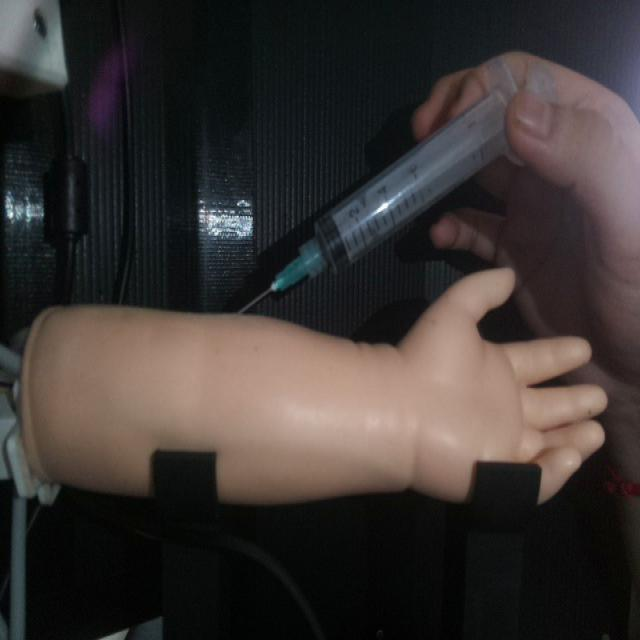Above 30 degrees: (228, 63, 555, 317)
